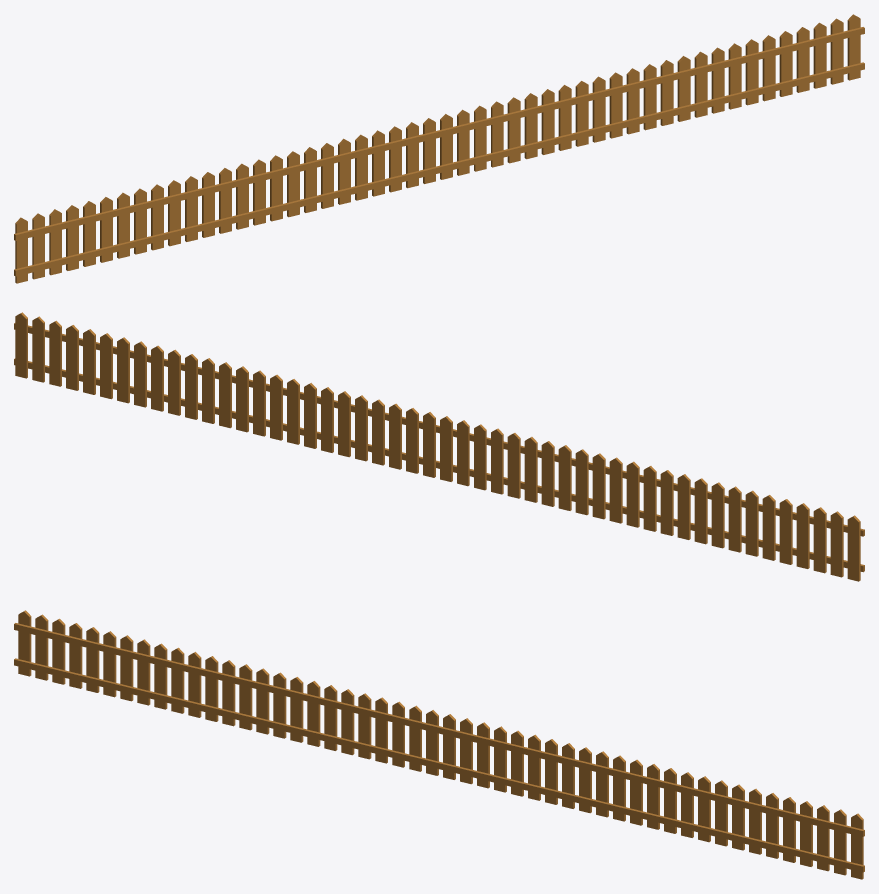
Rendered from fence.glb.
The picture shows the model from 3 angles, top to bottom: view 1: azimuth 30°, elevation 25°; view 2: azimuth 150°, elevation 25°; view 3: azimuth 330°, elevation 25°; orthographic projection.
Parts seen in each view (by area): view 1: Fence.001; view 2: Fence.001; view 3: Fence.001.
Part boxes in pixels (x1,y1,x2,y2): Fence.001: (14,14,864,283); Fence.001: (14,312,864,581); Fence.001: (14,610,864,879).
Bounding box in the file's own units: 15 × 1.07 × 0.1.
